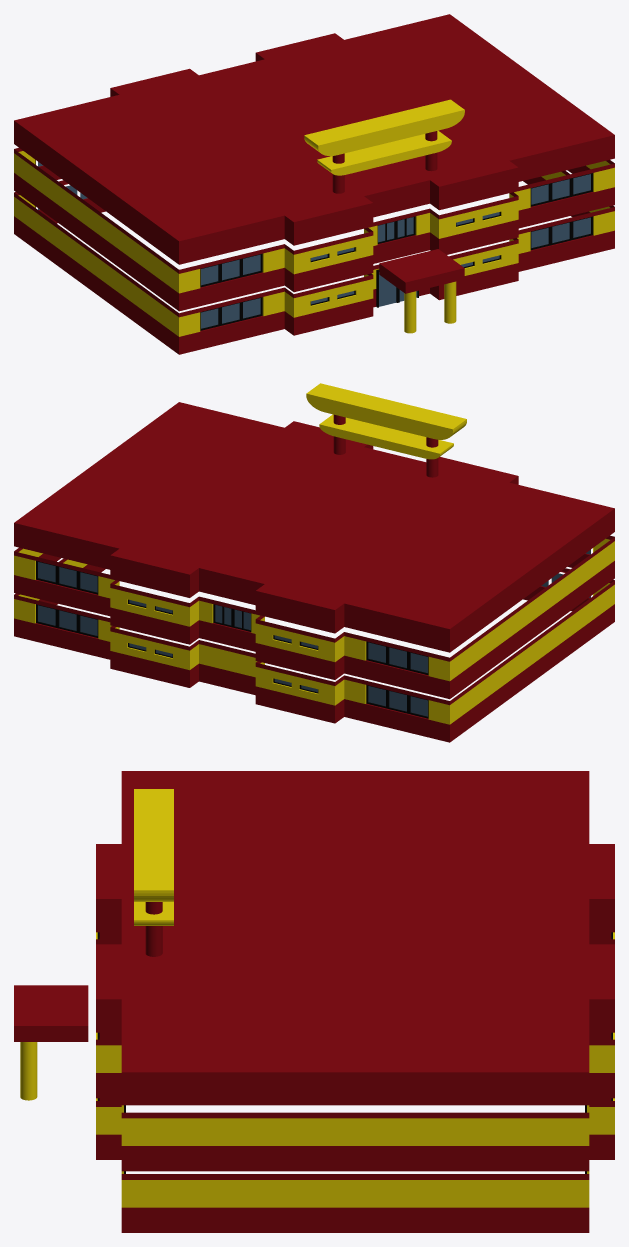
Rendered from HotelSogo.fbx.
The picture shows the model from 3 angles, top to bottom: view 1: azimuth 30°, elevation 25°; view 2: azimuth 150°, elevation 25°; view 3: azimuth 270°, elevation 25°; orthographic projection. The views are drawn at different scales.
Visible parts, largest first — view 1: Sogo_Roof, Sogo_Floor_Main, Sogo_Base_Main, Sogo_Roof_Top, Sogo_Floor_Windows, Sogo_Base_Top, Sogo_Base_Windows, Sogo_Floor_Frame, Sogo_Base_Columns, Sogo_Base_Frame, Sogo_Roof_Columns, Door; view 2: Sogo_Roof, Sogo_Base_Main, Sogo_Floor_Main, Sogo_Roof_Top, Sogo_Floor_Windows, Sogo_Base_Windows, Sogo_Floor_Frame, Sogo_Base_Frame, Sogo_Roof_Columns; view 3: Sogo_Roof, Sogo_Floor_Main, Sogo_Base_Main, Sogo_Roof_Top, Sogo_Base_Top, Sogo_Base_Columns, Sogo_Roof_Columns.
Part boxes in pixels (x1,y1,x2,y2): Sogo_Roof: (14,14,614,264); Sogo_Floor_Main: (14,148,614,311); Sogo_Base_Main: (14,170,614,354); Sogo_Roof_Top: (304,99,464,175); Sogo_Floor_Windows: (38,162,590,285); Sogo_Base_Top: (379,249,464,293); Sogo_Base_Windows: (38,185,590,328); Sogo_Floor_Frame: (200,173,592,287); Sogo_Base_Columns: (404,281,456,333); Sogo_Base_Frame: (200,216,592,330); Sogo_Roof_Columns: (332,131,437,193); Door: (379,272,417,306); Sogo_Roof: (14,402,614,652); Sogo_Base_Main: (14,558,614,742); Sogo_Floor_Main: (14,535,614,699); Sogo_Roof_Top: (306,383,466,459); Sogo_Floor_Windows: (38,549,590,672); Sogo_Base_Windows: (38,573,590,716); Sogo_Floor_Frame: (36,561,428,675); Sogo_Base_Frame: (36,604,428,718); Sogo_Roof_Columns: (333,414,438,477); Sogo_Roof: (96,771,614,1105); Sogo_Floor_Main: (96,932,614,1171); Sogo_Base_Main: (96,1098,614,1232); Sogo_Roof_Top: (134,789,173,925); Sogo_Base_Top: (14,985,88,1041); Sogo_Base_Columns: (20,1042,37,1100); Sogo_Roof_Columns: (145,902,162,956).
Bounding box in the file's own units: 2864 × 1076 × 2416.
